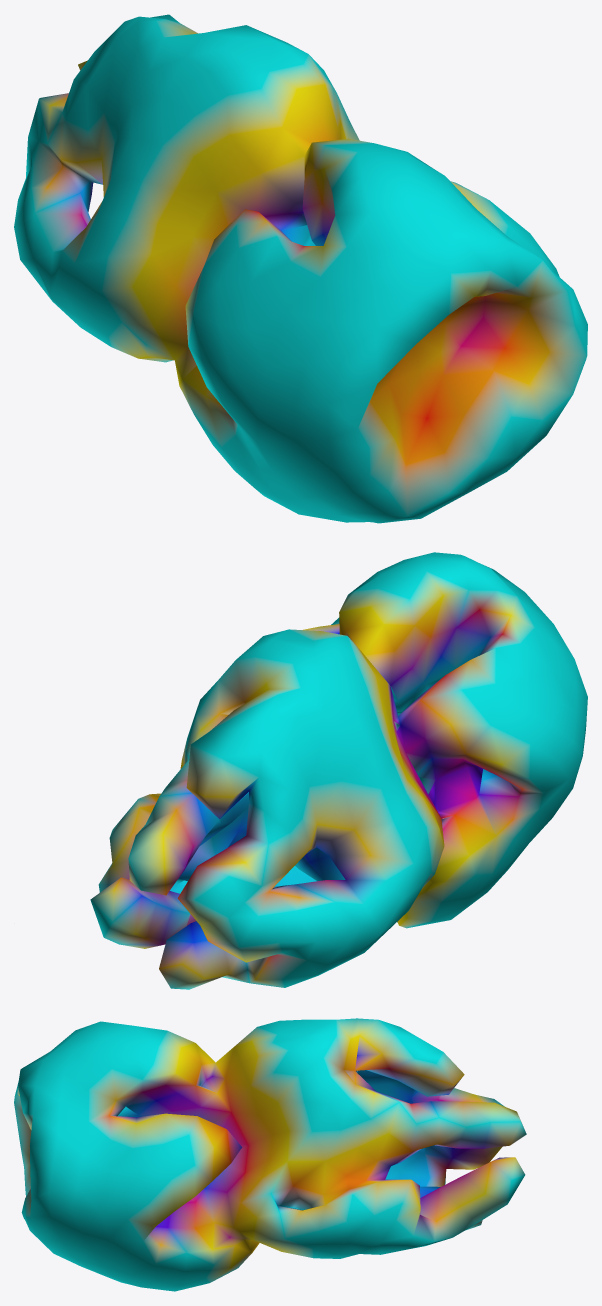
The model's file is jelly_98.gltf.
The picture shows the model from 3 angles, top to bottom: view 1: azimuth 30°, elevation 25°; view 2: azimuth 150°, elevation 25°; view 3: azimuth 270°, elevation 25°; orthographic projection. The views are drawn at different scales.
Visible parts, largest first — view 1: jellysquid3; view 2: jellysquid3; view 3: jellysquid3.
Part boxes in pixels (box(x1,y1,x2,y2)): jellysquid3: box(14, 14, 587, 523); jellysquid3: box(90, 552, 587, 989); jellysquid3: box(14, 1018, 526, 1291).
Bounding box in the file's own units: 3.94 × 4.08 × 8.38.
